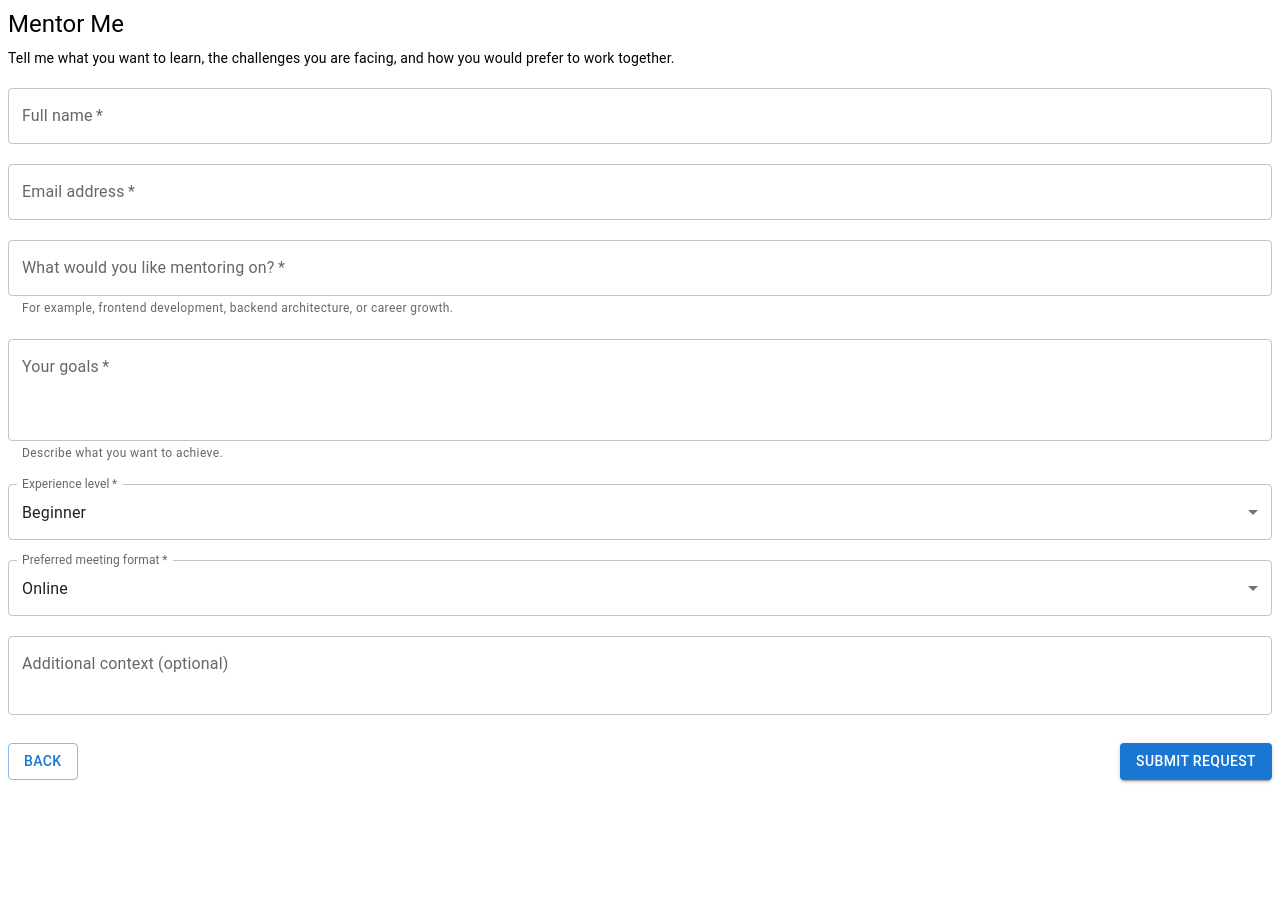
Test: MentorMeForm › shows a validation error when the mentoring topic is too short
Step 1. Type "Test User" into the field labelled "Full name *" → (640, 116), box [8, 88, 1272, 144]
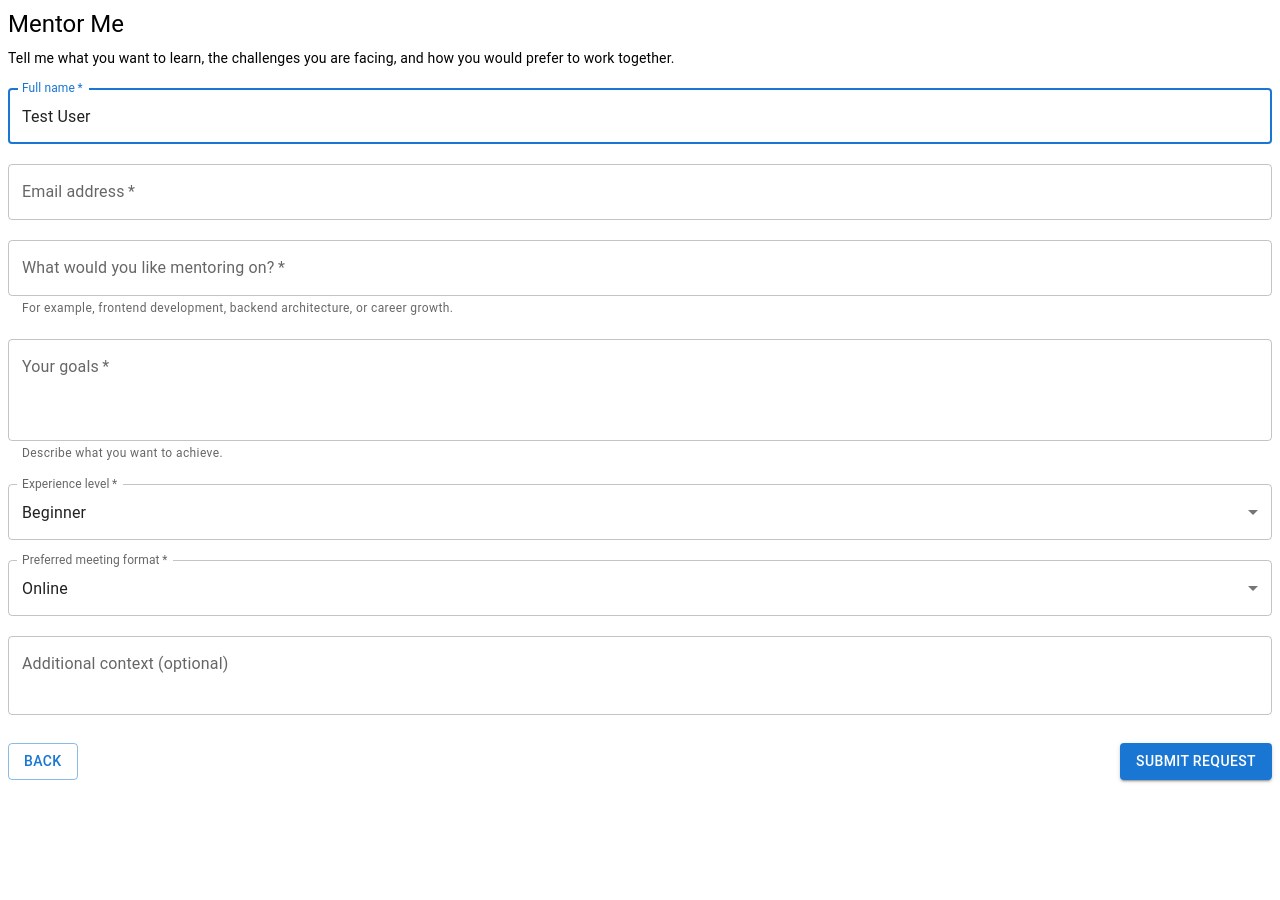
Step 2. Type "valid@example.com" into the field labelled "Email address *" → (640, 192), box [8, 164, 1272, 220]
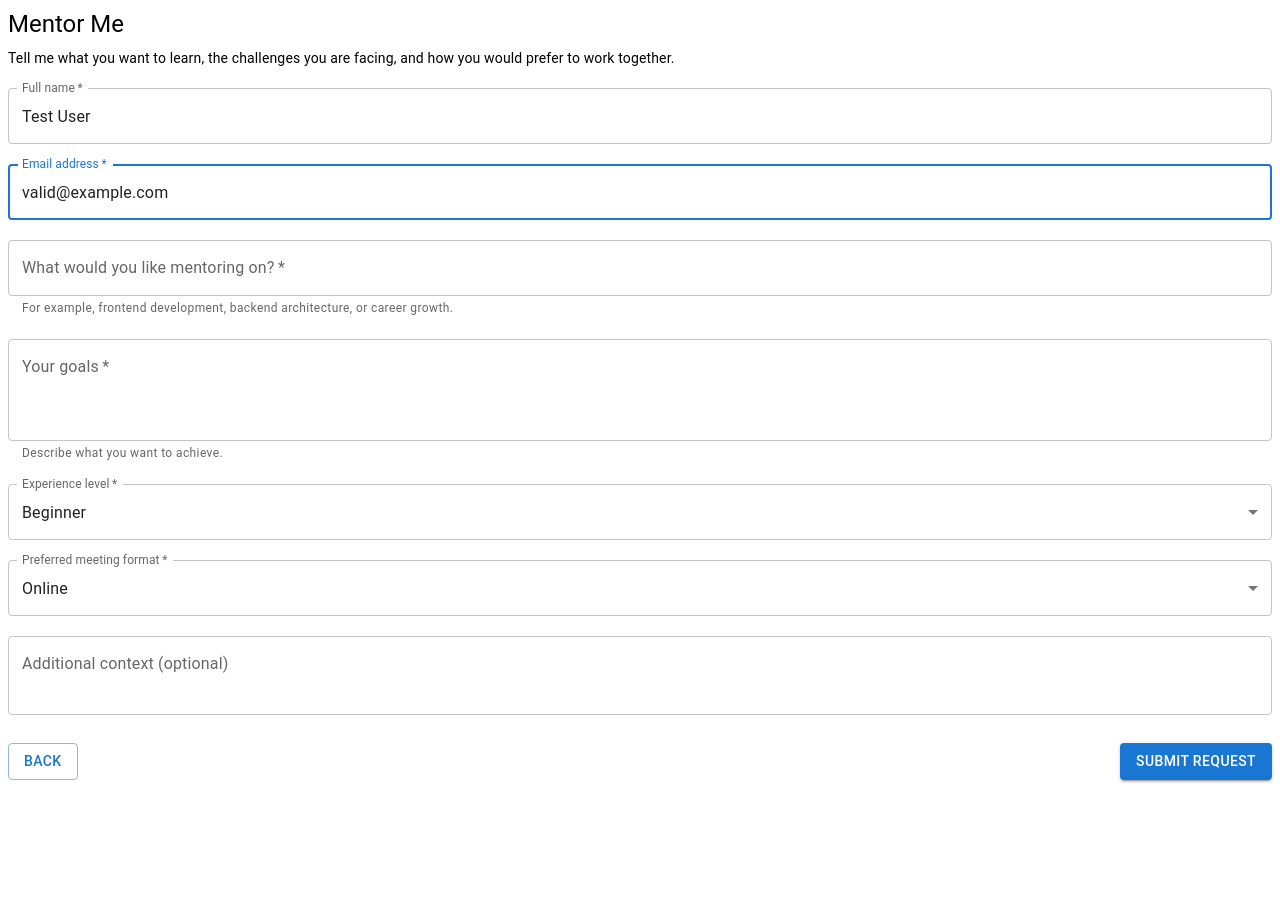
Step 3. Type "AB" into the field labelled "What would you like mentoring on? *" → (640, 268), box [8, 240, 1272, 296]
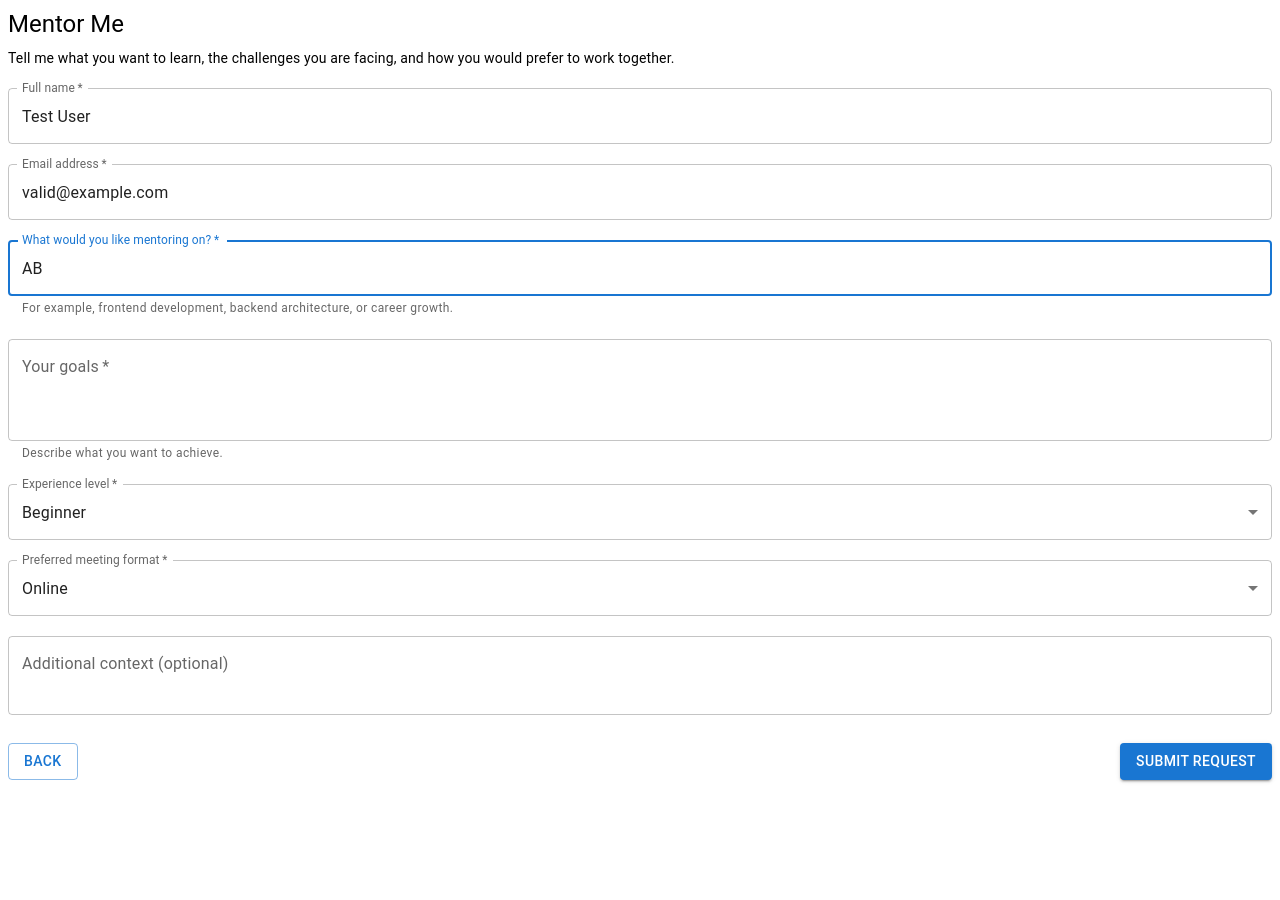
Step 4. Submit the form "Mentor Me"
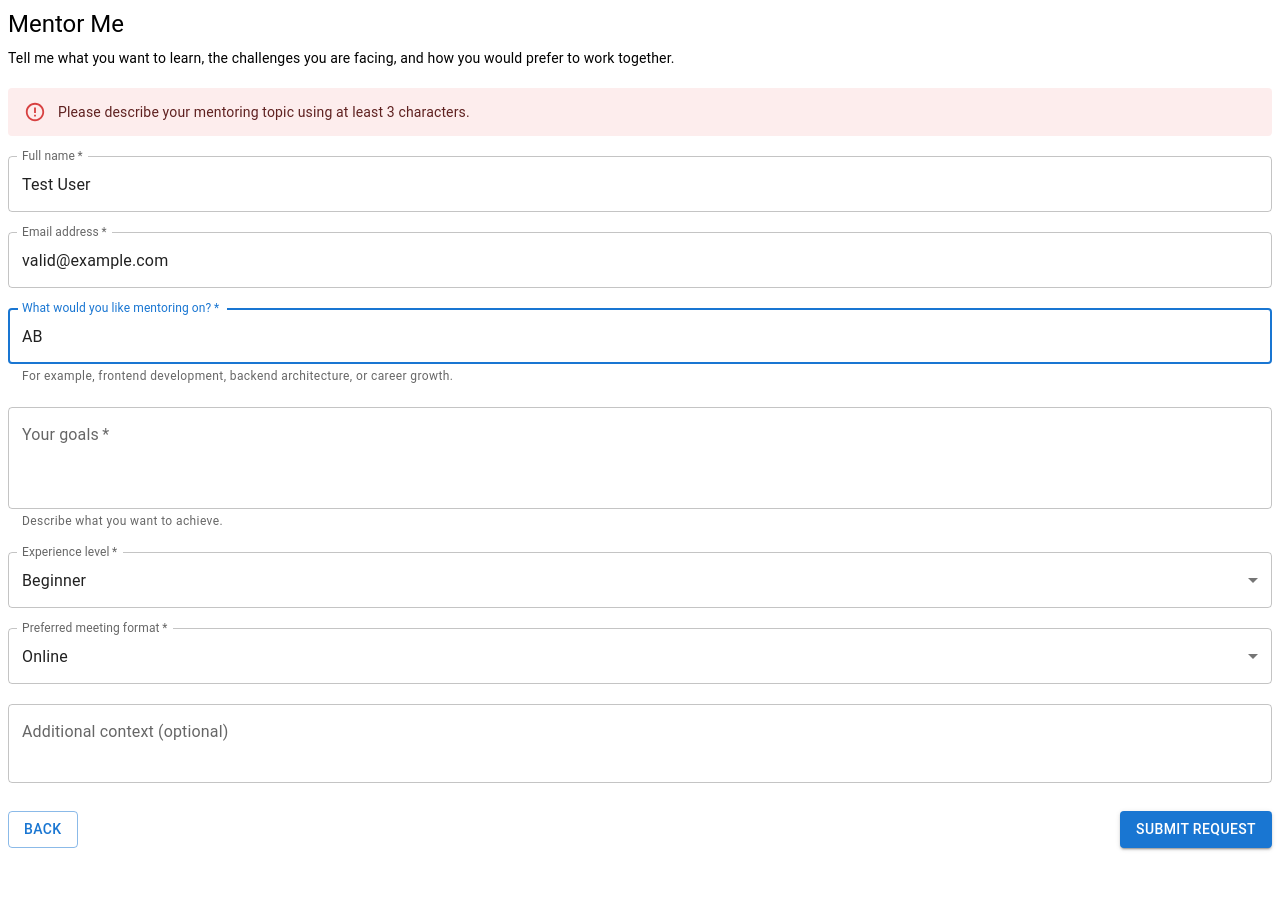
expect the text "mentoring topic" is shown: met, box [58, 104, 470, 120]
